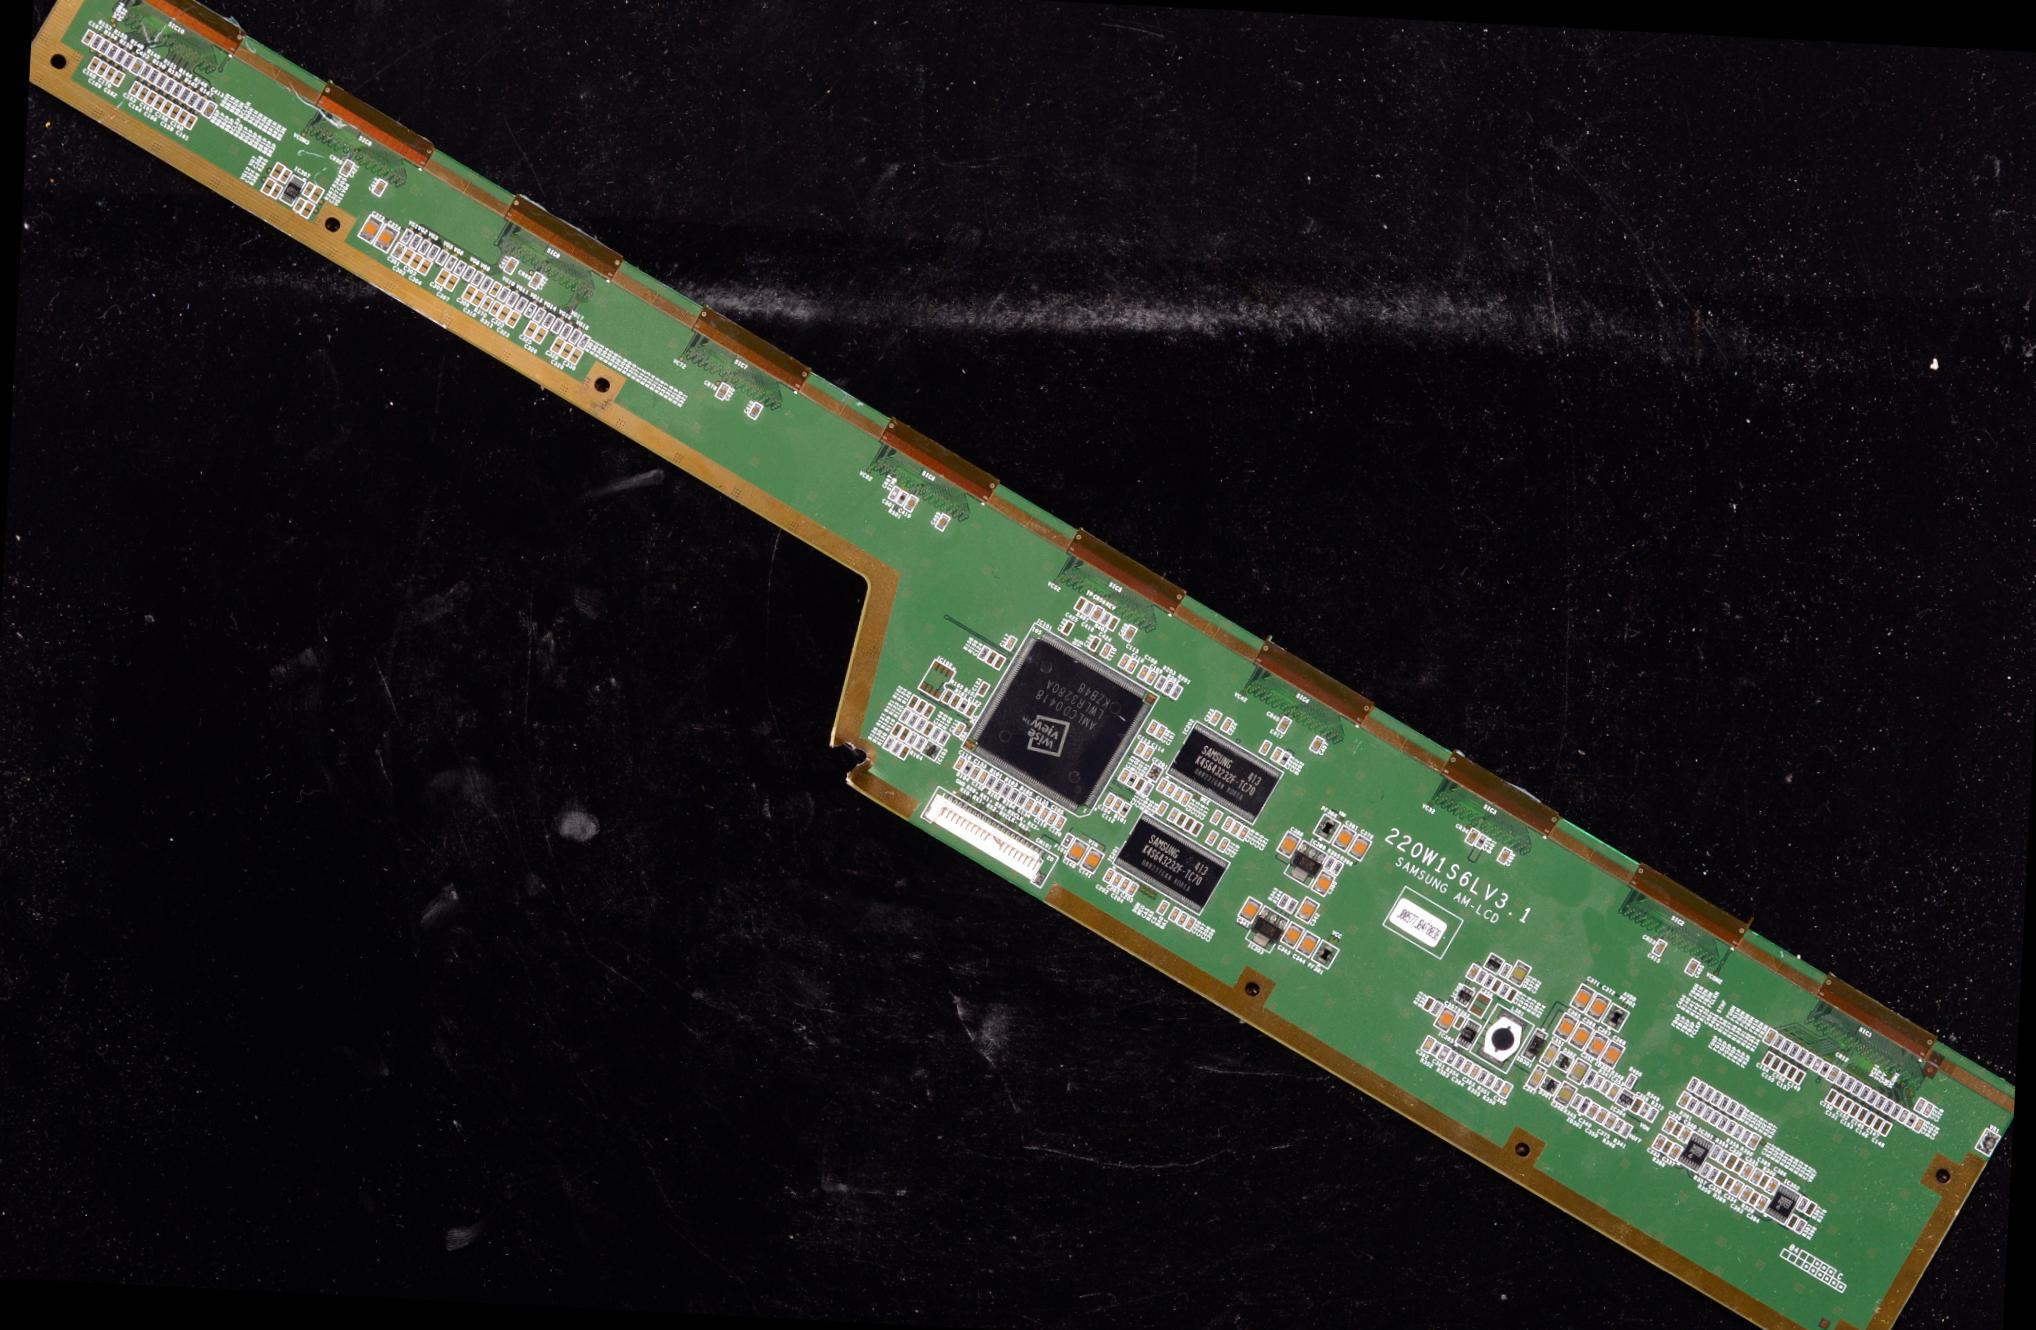Capacitor Jumper: (1281, 917, 1312, 954), (1294, 929, 1328, 962), (1551, 1011, 1585, 1044), (358, 208, 387, 245), (1567, 980, 1600, 1012), (1333, 821, 1364, 854), (1583, 990, 1618, 1020), (1600, 1039, 1635, 1067), (1570, 1023, 1600, 1054), (372, 221, 401, 254), (1552, 1082, 1582, 1112), (1347, 830, 1373, 864), (1236, 895, 1266, 923), (1586, 1030, 1616, 1058), (926, 511, 960, 534), (1079, 845, 1106, 874), (1310, 870, 1340, 897), (1521, 1069, 1555, 1091), (1468, 990, 1494, 1018), (1278, 830, 1303, 859), (1566, 1058, 1595, 1084), (1301, 733, 1333, 757), (1063, 839, 1091, 864), (1537, 1041, 1566, 1066), (1509, 959, 1536, 984), (1434, 1006, 1460, 1032), (525, 267, 554, 291), (1297, 897, 1324, 920), (499, 248, 522, 275), (901, 493, 925, 518), (372, 168, 390, 200), (743, 399, 769, 422), (1416, 1033, 1438, 1057), (335, 153, 356, 178), (1457, 828, 1484, 848), (1273, 715, 1297, 736), (1499, 843, 1518, 868), (880, 484, 905, 503), (519, 319, 542, 340), (1252, 738, 1276, 757), (1117, 625, 1143, 643), (1744, 1134, 1769, 1152), (1120, 623, 1143, 643), (1052, 815, 1074, 834), (1677, 1124, 1696, 1146), (407, 249, 426, 272), (503, 312, 525, 331), (1628, 1094, 1646, 1118), (1585, 1101, 1603, 1125), (154, 99, 178, 117), (711, 383, 735, 401), (1751, 1198, 1776, 1214), (1463, 962, 1482, 983), (1674, 1090, 1695, 1109), (1661, 1115, 1681, 1134), (457, 282, 476, 303), (1758, 1027, 1781, 1045), (1594, 1106, 1612, 1128), (398, 243, 416, 266), (1499, 1082, 1518, 1101), (83, 56, 102, 76), (107, 68, 126, 88), (184, 111, 203, 131), (298, 197, 318, 217), (531, 325, 551, 344), (1088, 607, 1109, 625), (267, 159, 285, 180), (567, 349, 588, 367), (202, 96, 217, 120), (1106, 613, 1123, 632), (1000, 634, 1019, 652), (1155, 799, 1174, 816), (1822, 1090, 1840, 1109), (1837, 1098, 1855, 1118), (1861, 1110, 1880, 1128), (1739, 1161, 1757, 1180), (102, 64, 120, 83), (309, 184, 326, 203), (389, 240, 407, 260), (479, 294, 497, 313), (1155, 898, 1171, 919), (1775, 1061, 1796, 1078), (417, 257, 433, 278), (493, 307, 513, 324), (165, 107, 187, 122), (445, 270, 459, 294), (558, 343, 576, 361), (1061, 617, 1077, 637), (1083, 635, 1103, 652), (973, 681, 993, 698), (1208, 807, 1224, 827), (1766, 1057, 1785, 1073), (1460, 1058, 1477, 1078), (1911, 1119, 1931, 1136), (1604, 1112, 1620, 1131), (1761, 1179, 1781, 1195), (1738, 1185, 1754, 1204), (132, 86, 151, 102), (257, 175, 273, 194), (435, 267, 451, 286), (546, 338, 565, 355), (1218, 717, 1239, 732), (1236, 825, 1257, 840), (1215, 837, 1236, 852), (1604, 1084, 1625, 1098), (1867, 1118, 1888, 1133), (129, 55, 144, 76), (129, 77, 142, 99), (145, 96, 168, 110), (1135, 664, 1152, 681), (1129, 741, 1146, 759), (1227, 819, 1244, 837), (1125, 883, 1143, 900), (1166, 905, 1183, 923), (1435, 1048, 1453, 1064), (1920, 1101, 1938, 1118), (1848, 1103, 1864, 1121), (1650, 1136, 1668, 1152), (1748, 1170, 1764, 1187), (1727, 1180, 1745, 1196), (1098, 644, 1117, 659), (1218, 816, 1238, 831), (1201, 831, 1220, 846), (1825, 1067, 1845, 1082), (141, 92, 160, 107), (174, 110, 193, 125), (487, 301, 506, 316), (472, 285, 484, 309), (948, 757, 969, 770), (1111, 794, 1125, 815), (993, 655, 1009, 671), (1793, 1070, 1809, 1087), (1830, 1094, 1846, 1110), (1714, 1171, 1730, 1187), (488, 281, 505, 297), (1125, 658, 1140, 675), (1104, 867, 1119, 885), (1760, 1052, 1778, 1067), (1724, 1153, 1742, 1168), (98, 55, 108, 80), (82, 28, 95, 47), (1877, 1124, 1897, 1137), (1073, 597, 1088, 613), (1146, 669, 1162, 684), (976, 772, 991, 788), (1021, 799, 1037, 813), (1037, 806, 1054, 821), (1045, 810, 1061, 825), (1110, 871, 1125, 888), (1184, 917, 1201, 932), (1914, 1097, 1929, 1113), (1668, 1146, 1684, 1161), (1153, 724, 1171, 738), (1101, 791, 1114, 809), (1157, 776, 1172, 791), (1180, 793, 1195, 807), (1030, 803, 1045, 818), (1175, 913, 1190, 928), (1855, 1109, 1870, 1124), (1117, 655, 1131, 671), (1206, 711, 1223, 724), (963, 704, 979, 717), (1141, 745, 1157, 759), (1117, 766, 1131, 782), (1163, 781, 1177, 797), (1168, 807, 1181, 824), (1468, 1066, 1484, 1079), (1146, 720, 1160, 733), (969, 764, 982, 779), (1117, 880, 1134, 892), (1895, 1110, 1911, 1122), (923, 723, 936, 736), (1785, 1067, 1799, 1081), (1172, 788, 1186, 800)
IC: (945, 623, 1166, 824), (1162, 707, 1290, 830), (1104, 813, 1239, 911), (1757, 1180, 1810, 1226), (1674, 1127, 1720, 1171), (1285, 843, 1325, 892), (919, 656, 953, 699), (278, 171, 310, 206), (1454, 1015, 1487, 1048), (1450, 983, 1481, 1006), (1609, 1088, 1635, 1112)
Resistor Jumper: (398, 223, 418, 246), (1644, 1104, 1665, 1125), (442, 251, 463, 272), (876, 732, 895, 753), (433, 248, 454, 267), (1775, 1036, 1797, 1054), (1635, 1103, 1658, 1121), (1613, 1115, 1631, 1137), (423, 242, 445, 260), (1447, 1057, 1471, 1073), (416, 237, 435, 257), (451, 258, 470, 278), (1420, 995, 1438, 1015), (1487, 1078, 1508, 1095), (1794, 1196, 1815, 1214), (1169, 683, 1192, 699), (1318, 855, 1340, 871), (1766, 1033, 1788, 1049), (1423, 1042, 1445, 1058), (1618, 1125, 1640, 1141), (1788, 1048, 1812, 1063), (1152, 672, 1169, 692), (981, 772, 999, 791), (1712, 1116, 1732, 1134), (1805, 1201, 1822, 1220), (531, 306, 549, 325), (567, 328, 586, 346), (1497, 962, 1518, 978), (1729, 1104, 1750, 1121), (145, 70, 166, 86), (893, 490, 914, 506), (1441, 1052, 1463, 1067), (1141, 781, 1159, 799), (1171, 810, 1189, 828), (1284, 897, 1301, 914), (1428, 1000, 1445, 1018), (1693, 1079, 1711, 1097), (1732, 1156, 1750, 1174), (460, 264, 478, 282), (469, 270, 487, 288), (503, 291, 521, 309), (551, 319, 568, 337), (559, 324, 577, 341), (990, 778, 1009, 794), (1622, 1070, 1641, 1087), (1717, 1092, 1733, 1112), (1723, 1097, 1742, 1113), (1567, 1094, 1586, 1110), (111, 47, 131, 64), (476, 276, 496, 292), (522, 303, 542, 319), (1502, 987, 1523, 1002), (1815, 1063, 1836, 1078), (1855, 1087, 1876, 1101), (973, 643, 991, 659), (910, 736, 927, 753), (887, 741, 905, 757), (1701, 1084, 1717, 1101), (1481, 1075, 1499, 1091), (1708, 1090, 1726, 1106), (1707, 1144, 1724, 1161), (300, 181, 318, 197), (1014, 793, 1033, 807), (1272, 895, 1291, 910), (276, 168, 295, 183), (407, 235, 426, 249), (515, 295, 530, 315), (1848, 1082, 1868, 1095), (175, 88, 196, 101), (1123, 772, 1140, 788), (1496, 984, 1512, 1000), (120, 53, 137, 70), (1705, 1168, 1721, 1185), (138, 64, 154, 80), (169, 83, 185, 99), (577, 332, 594, 349), (904, 696, 922, 711), (936, 732, 954, 747), (896, 747, 914, 761), (1132, 778, 1150, 793), (1189, 821, 1206, 836), (1784, 1042, 1802, 1057), (1802, 1052, 1819, 1067), (104, 45, 122, 59), (1683, 1078, 1701, 1092), (1474, 1070, 1491, 1085), (1888, 1104, 1905, 1119), (1683, 1095, 1701, 1110), (1705, 1112, 1723, 1127), (1721, 1176, 1736, 1193), (1747, 1193, 1764, 1208), (153, 74, 171, 89), (267, 186, 285, 200), (1328, 862, 1347, 876), (1879, 1100, 1898, 1113), (1163, 680, 1178, 696), (913, 699, 927, 715), (999, 784, 1015, 799), (1181, 816, 1198, 831), (89, 33, 104, 49), (98, 37, 113, 53), (1699, 1107, 1715, 1122), (1717, 1149, 1733, 1164), (1785, 1214, 1802, 1229), (543, 313, 558, 330), (1864, 1090, 1882, 1103), (1727, 1127, 1745, 1140), (1739, 1128, 1753, 1146), (191, 98, 209, 111), (496, 288, 513, 301), (985, 650, 1000, 665), (896, 708, 911, 723), (913, 718, 927, 733), (889, 723, 904, 738), (1008, 788, 1022, 803), (1693, 1101, 1708, 1116), (1723, 1121, 1738, 1136), (905, 714, 922, 727), (1481, 975, 1497, 989), (1807, 1058, 1824, 1072), (1873, 1095, 1889, 1109), (1696, 1165, 1712, 1179), (1758, 1173, 1772, 1189), (160, 79, 177, 92), (187, 91, 200, 107), (922, 707, 939, 718), (1840, 1078, 1858, 1090), (898, 727, 911, 742), (1475, 971, 1490, 984), (1834, 1073, 1849, 1087), (929, 729, 942, 742), (1490, 981, 1503, 995), (905, 730, 917, 745), (1794, 1222, 1809, 1234), (292, 199, 306, 211)
